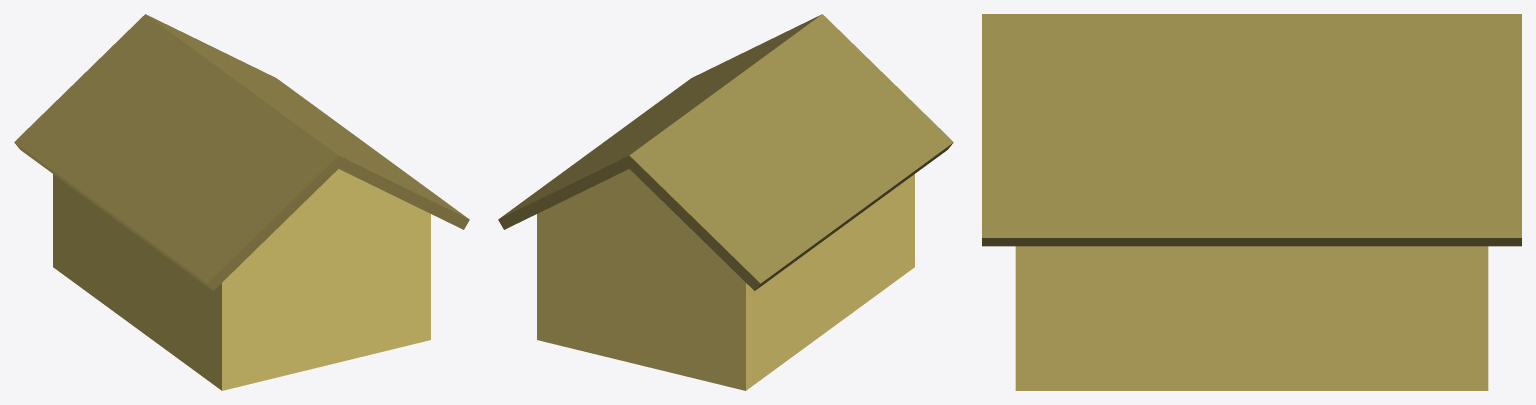
File: result.glb
3 views of the same model, side by side, from view 1: azimuth 30°, elevation 25°; view 2: azimuth 150°, elevation 25°; view 3: azimuth 270°, elevation 25° (orthographic). The views are drawn at different scales.
Parts seen in each view (by area): view 1: 0f4ae43d-4294-474d-bc3f-39870166fae2__undefined (×2), 469a4667-daf1-42a2-8c07-2995d1a37e02__undefined; view 2: 0f4ae43d-4294-474d-bc3f-39870166fae2__undefined (×2), 469a4667-daf1-42a2-8c07-2995d1a37e02__undefined; view 3: 0f4ae43d-4294-474d-bc3f-39870166fae2__undefined, 469a4667-daf1-42a2-8c07-2995d1a37e02__undefined.
Part boxes in pixels (x1=…): 0f4ae43d-4294-474d-bc3f-39870166fae2__undefined (×2): x1=14, y1=14, x2=469, y2=290; 469a4667-daf1-42a2-8c07-2995d1a37e02__undefined: x1=53, y1=169, x2=430, y2=390; 0f4ae43d-4294-474d-bc3f-39870166fae2__undefined (×2): x1=498, y1=14, x2=953, y2=290; 469a4667-daf1-42a2-8c07-2995d1a37e02__undefined: x1=537, y1=169, x2=914, y2=390; 0f4ae43d-4294-474d-bc3f-39870166fae2__undefined: x1=982, y1=14, x2=1521, y2=246; 469a4667-daf1-42a2-8c07-2995d1a37e02__undefined: x1=1015, y1=246, x2=1488, y2=390.
Bounding box in the file's own units: 628 × 500 × 800.
